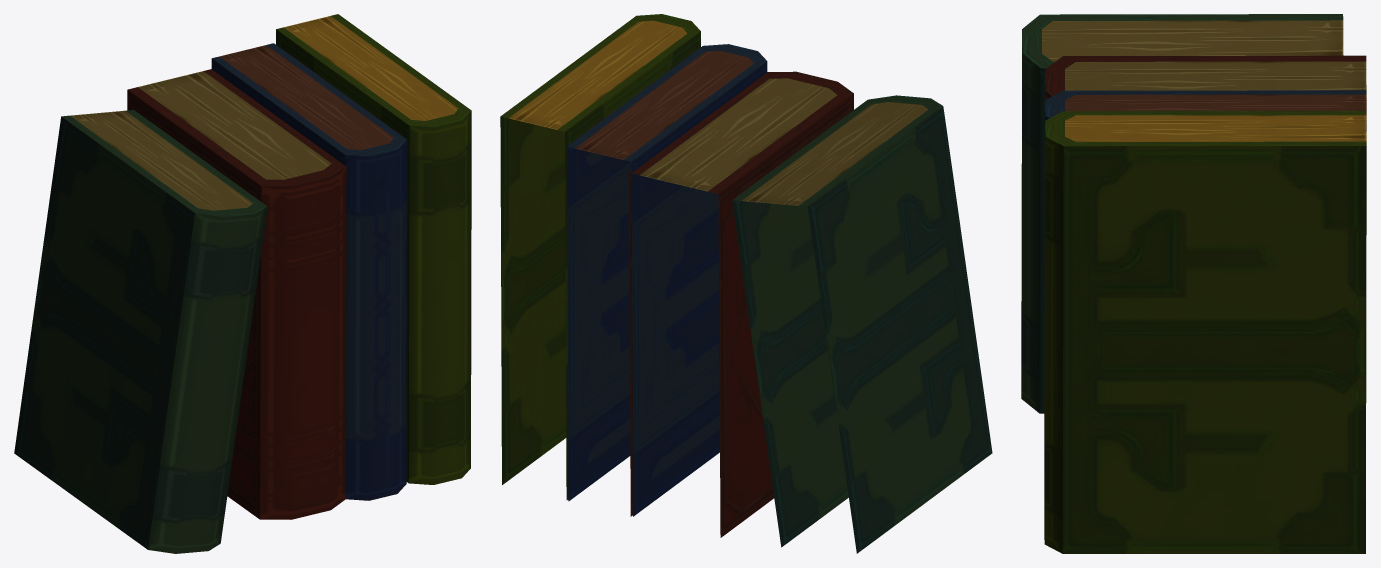
The model's file is BookGroup_Small_1.gltf.
The picture shows the model from 3 angles, left to right: view 1: azimuth 30°, elevation 25°; view 2: azimuth 150°, elevation 25°; view 3: azimuth 270°, elevation 25°; orthographic projection. The views are drawn at different scales.
Visible parts, largest first — view 1: BookGroup_Small_1; view 2: BookGroup_Small_1; view 3: BookGroup_Small_1.
Boxes of the visible parts, left/top/right/bottom form: BookGroup_Small_1: left=14, top=14, right=471, bottom=553; BookGroup_Small_1: left=500, top=14, right=992, bottom=553; BookGroup_Small_1: left=1021, top=14, right=1366, bottom=553.
Size of the model in its own units: 0.2893 by 0.2983 by 0.2256.
1 material, 1 textured.
